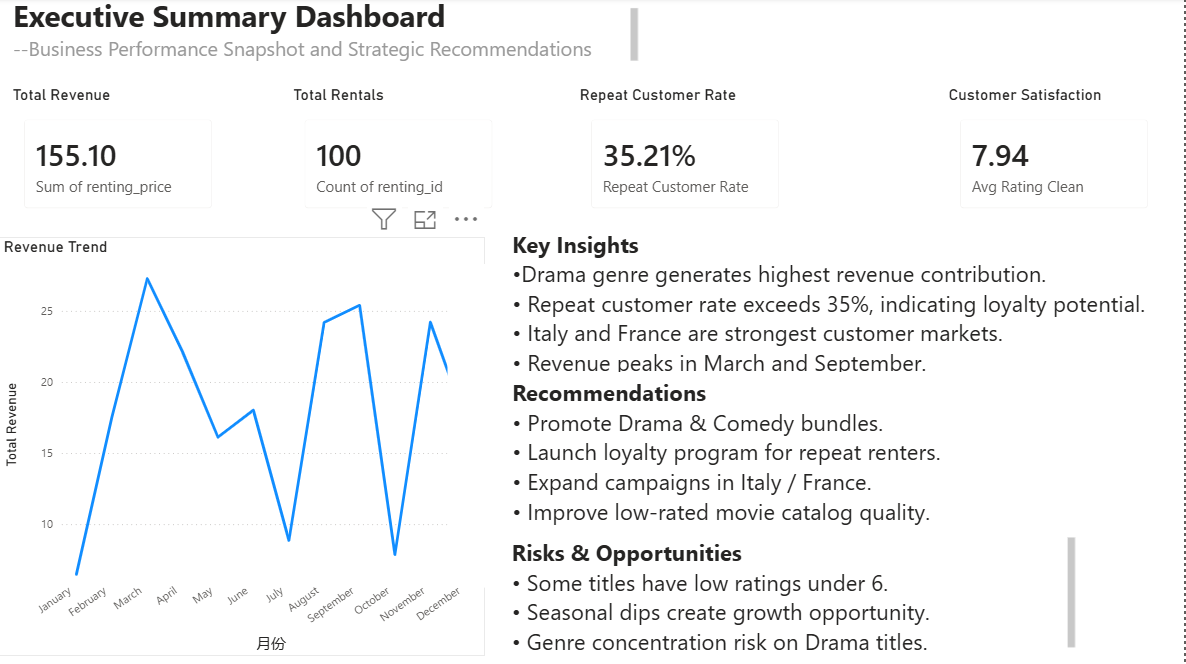

The page's visual inventory and layout, read from the dashboard file:
{"tool":"powerbi","page":{"name":"Executive Summary Dashboard","canvas":[1280,720],"ordinal":4},"visuals":[{"type":"textbox","box":[10,0,685.2,73.7],"z":0},{"type":"cardVisual","title":"Total Revenue","fields":{"Data":["Sum(movies.renting_price)"]},"box":[10,95.6,237,149.4],"z":1000},{"type":"cardVisual","title":"Total Rentals","fields":{"Data":["CountNonNull(renting.renting_id)"]},"box":[312.7,95.6,237,149.4],"z":2000},{"type":"cardVisual","title":"Repeat Customer Rate","fields":{"Data":["actors.Repeat Customer Rate"]},"box":[621.4,95.6,237,149.4],"z":3000},{"type":"cardVisual","title":"Customer Satisfaction","fields":{"Data":["actors.Avg Rating Clean"]},"box":[1019.8,95.6,237,149.4],"z":4000},{"type":"lineChart","title":"Revenue Trend","fields":{"Category":["renting.date_renting.变体.日期层次结构.月份"],"Y":["actors.Total Revenue"]},"box":[0,258.9,523.8,452.1],"z":5000},{"type":"textbox","box":[484,289,211,349],"z":6000},{"type":"textbox","box":[549.7,245,707.1,175.3],"z":7000},{"type":"textbox","box":[549.7,404.3,617.4,173.3],"z":8000},{"type":"textbox","box":[549.7,577.6,617.4,133.4],"z":9000}]}

Visuals, with their boxes in screenshot pixels (x1, y1, x2, y2), scaled from the page's 1280x720 canvas onto the 1186x664 screenshot:
textbox: (9, 0, 644, 68)
"Total Revenue" cardVisual: (9, 88, 229, 226)
"Total Rentals" cardVisual: (290, 88, 509, 226)
"Repeat Customer Rate" cardVisual: (576, 88, 795, 226)
"Customer Satisfaction" cardVisual: (945, 88, 1165, 226)
"Revenue Trend" lineChart: (0, 239, 485, 656)
textbox: (448, 267, 644, 588)
textbox: (509, 226, 1165, 388)
textbox: (509, 373, 1081, 533)
textbox: (509, 533, 1081, 656)
